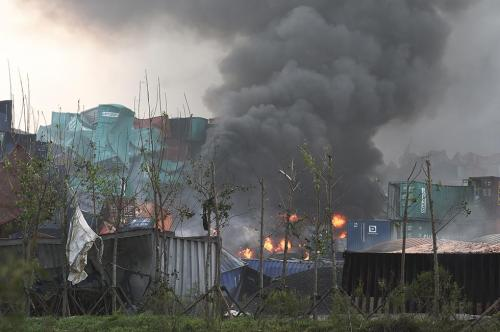smoke: (201, 11, 400, 212)
